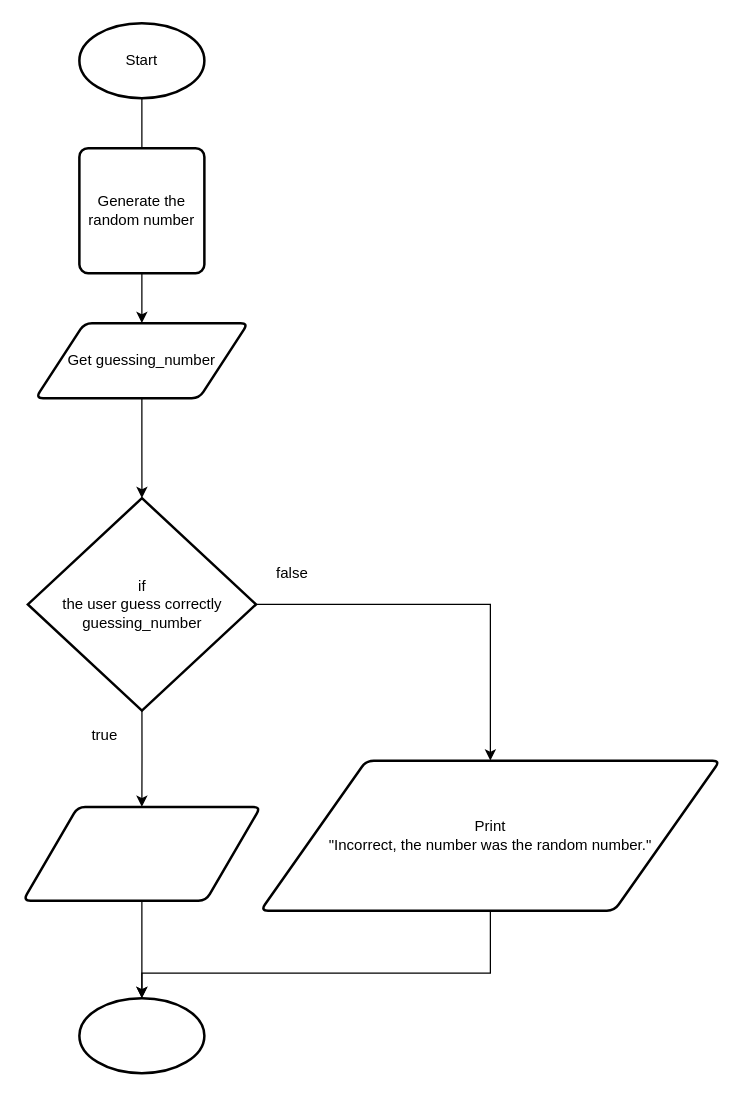
The diagram is 743 pixels wide and 1095 high, and some of its shapes have lost their labels. The shapes that lost their labels are listed below. From the top down, each one's box as (x1, y1, x2, y2) in pixels, then its label:
(21, 805, 261, 901): Print "You guessed correct!"
(78, 996, 205, 1074): Stop
